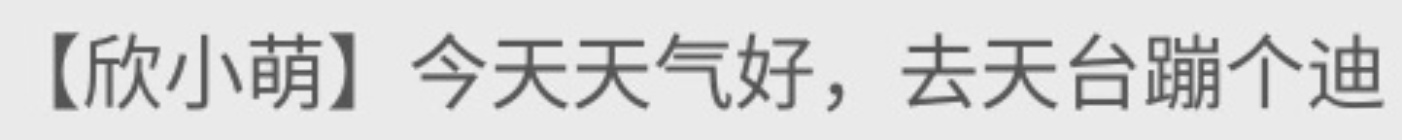TextView: (1, 1, 1401, 139)
